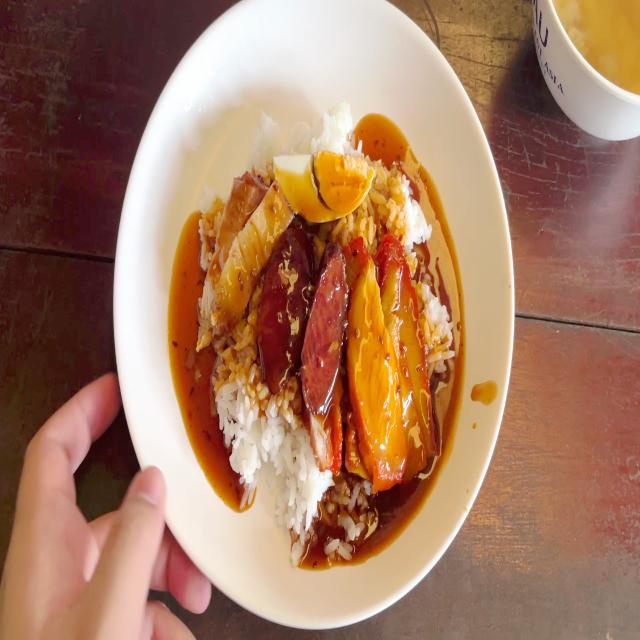boiled_egg: (276, 159, 370, 219)
chainese_sausage: (267, 233, 341, 409)
crispy_pork: (205, 181, 279, 327)
red_pork: (350, 247, 427, 472)
red_pork_and_crispy_pork: (209, 95, 440, 525)
rice: (214, 339, 265, 479), (266, 420, 316, 516)
